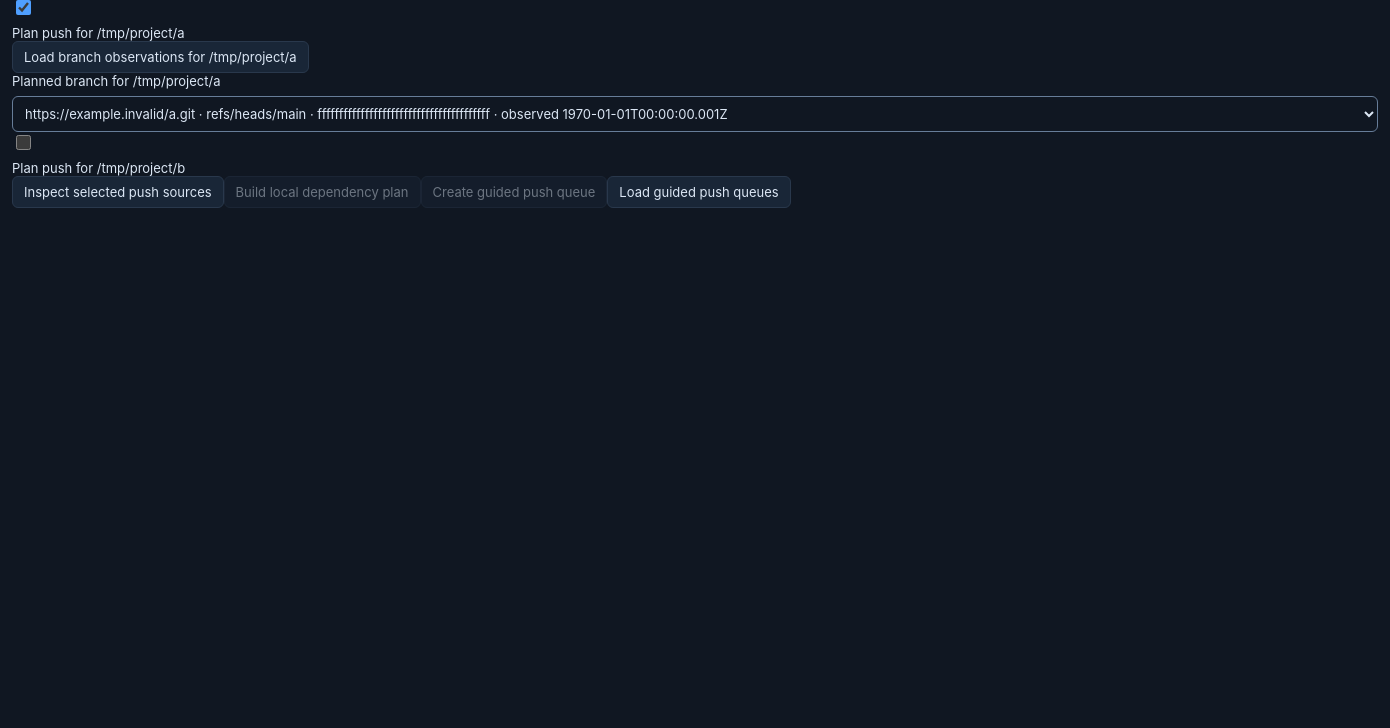
Scenario: submits exact saved child selections and explicit hook policy for independent review
Earlier steps of the test are not shown.
Later steps or results of the test are not shown.
Click the button "Inspect selected push sources" at (118,192), box [12,176,224,208]
(page scrolled)
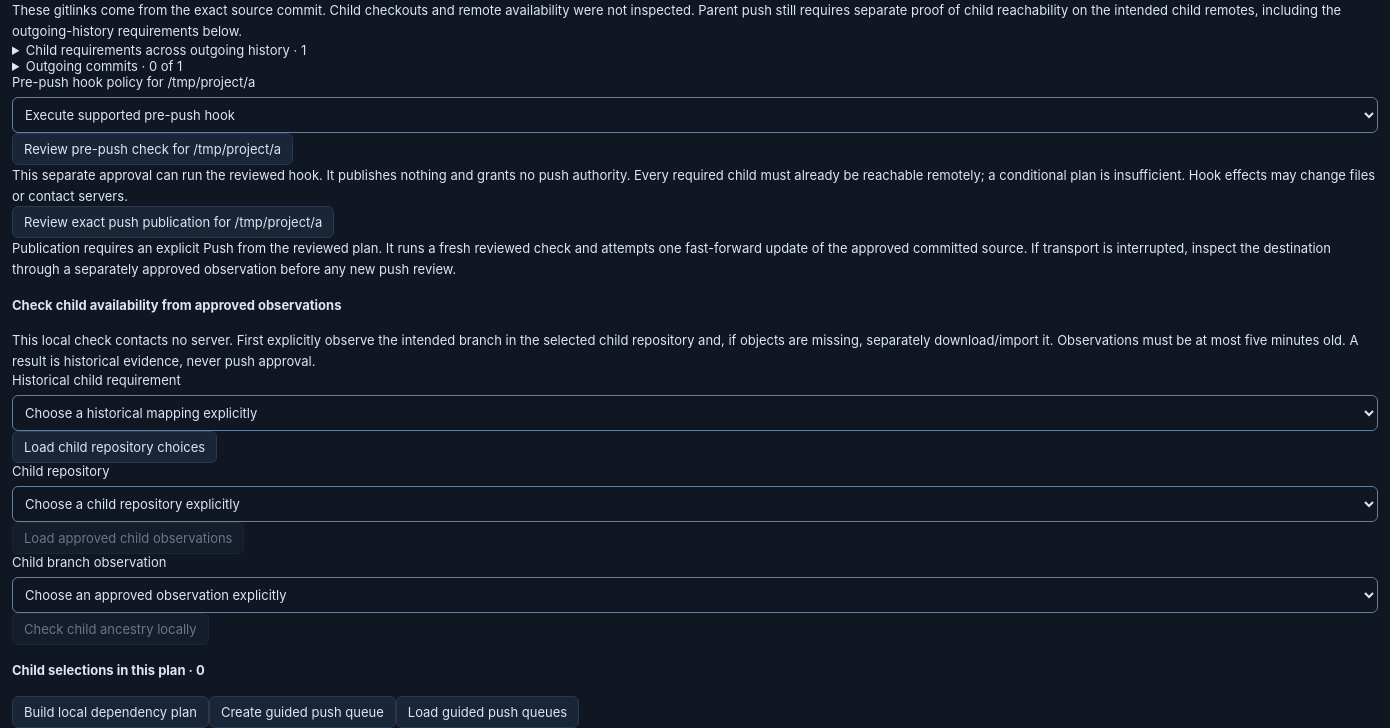
Expected: the heading "Child selections in this plan · 0" is shown, [12,662,205,678]
Select "0" in the dropdown labelled "Historical child requirement" at (695,413), box [12,395,1378,431]
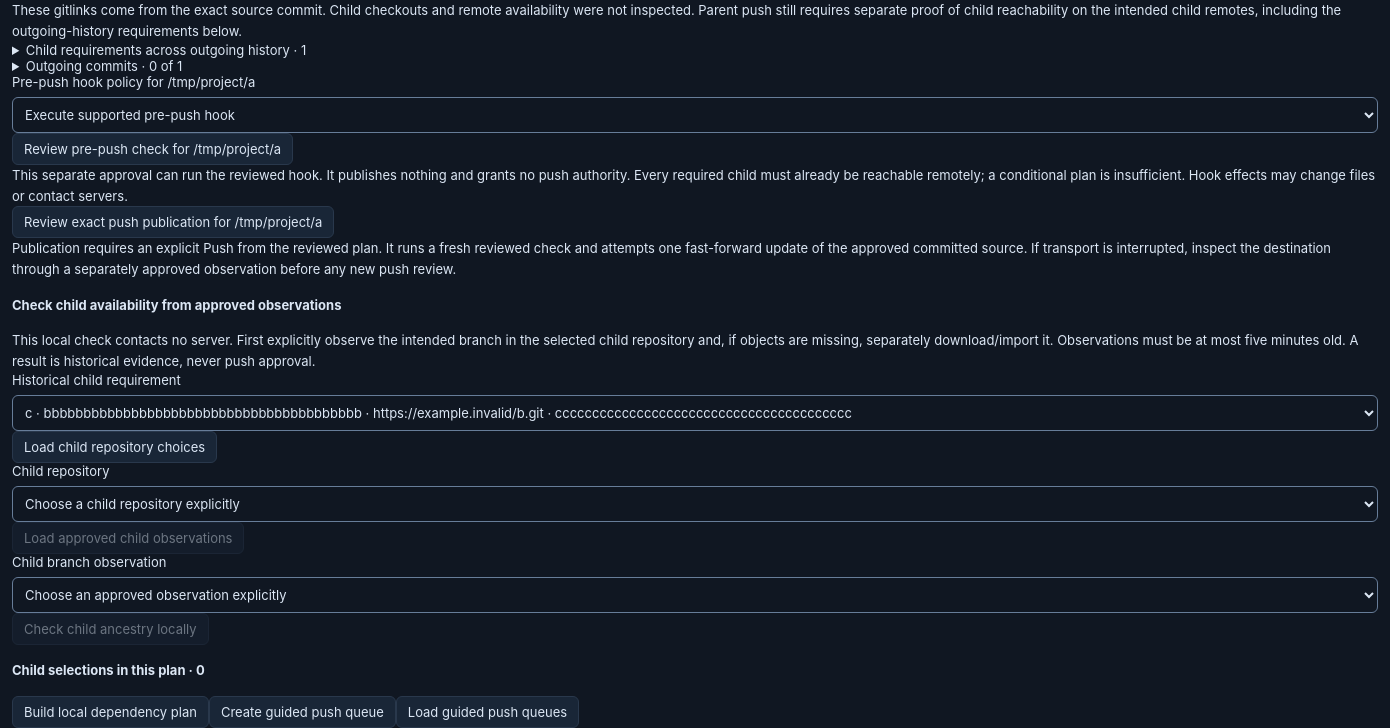
Click the button "Load child repository choices" at (115,447), box [12,431,217,463]
Select "/tmp/project/b" in the dropdown labelled "Child repository" at (695,504), box [12,486,1378,522]
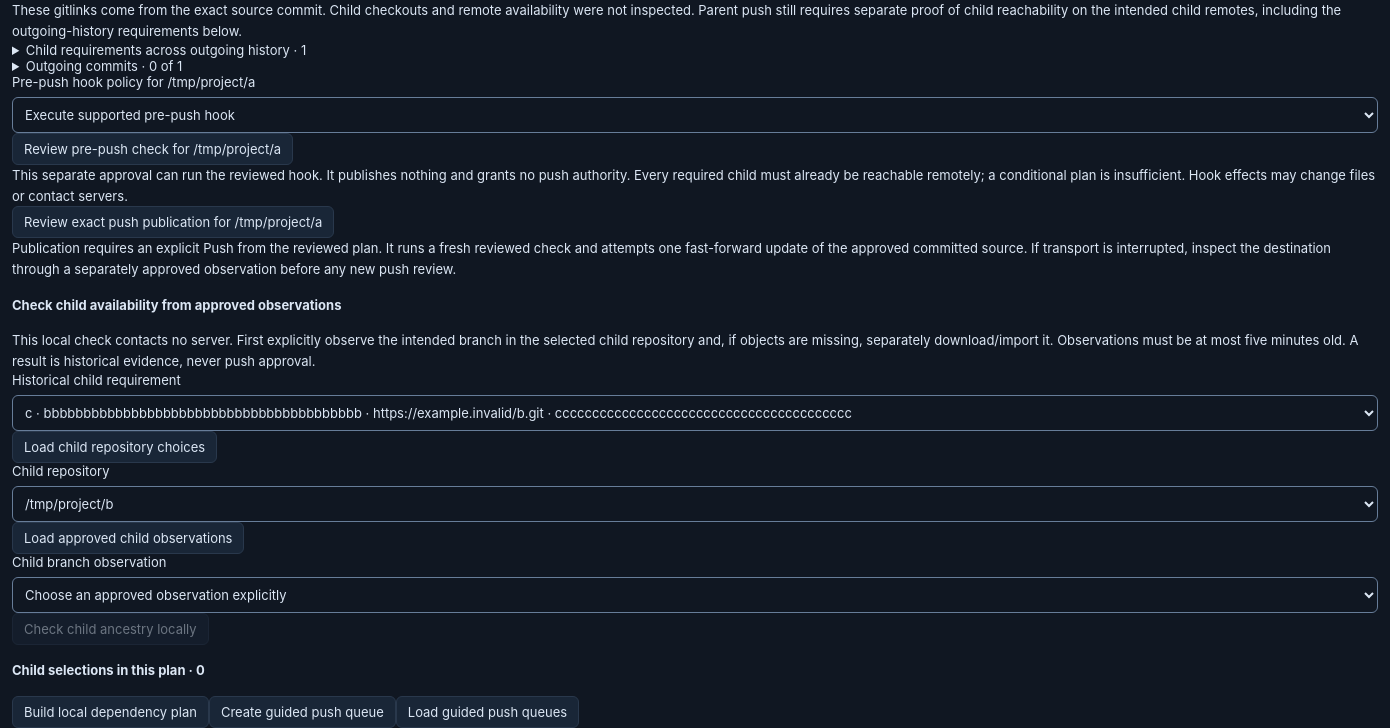
Click the button "Load approved child observations" at (128,538), box [12,522,244,554]
Select "obs-b" in the dropdown labelled "Child branch observation" at (695,595), box [12,577,1378,613]
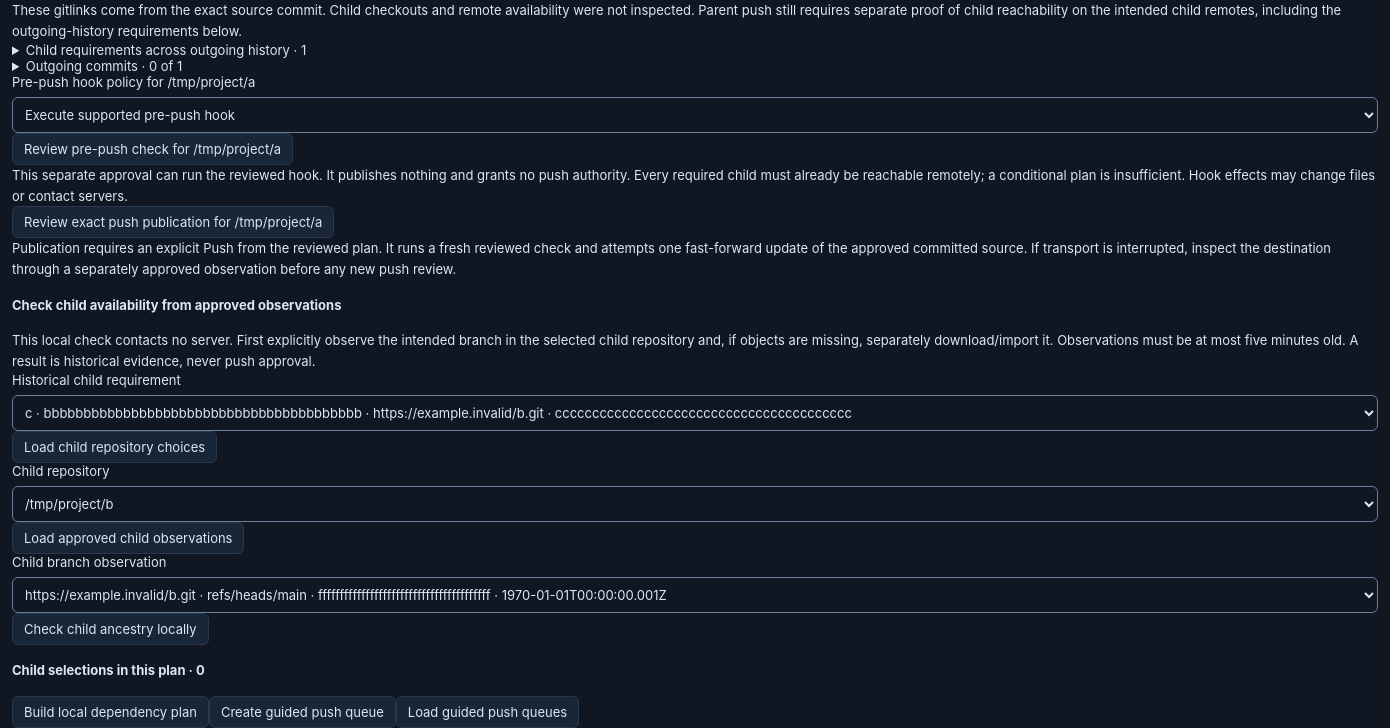
Click the button "Check child ancestry locally" at (110,629), box [12,613,209,645]
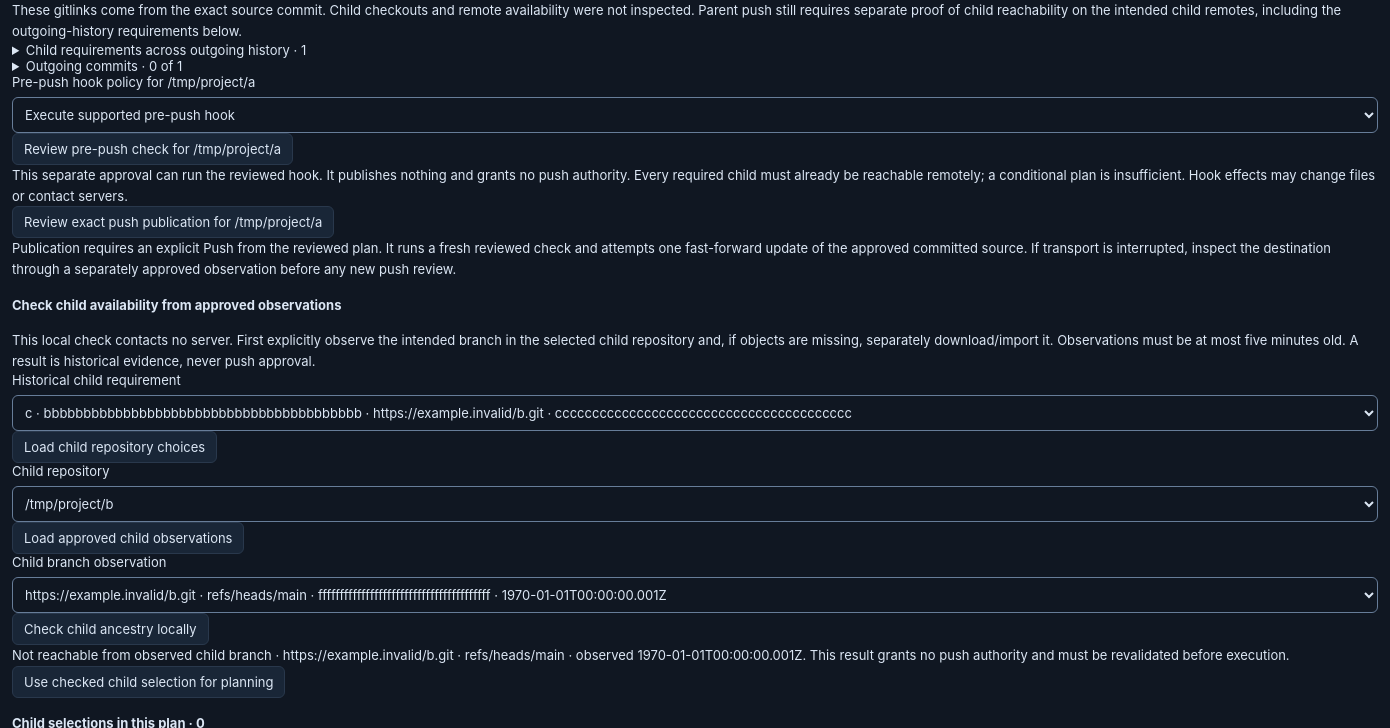
Click the button "Use checked child selection for planning" at (149,682), box [12,666,285,698]
(page scrolled)
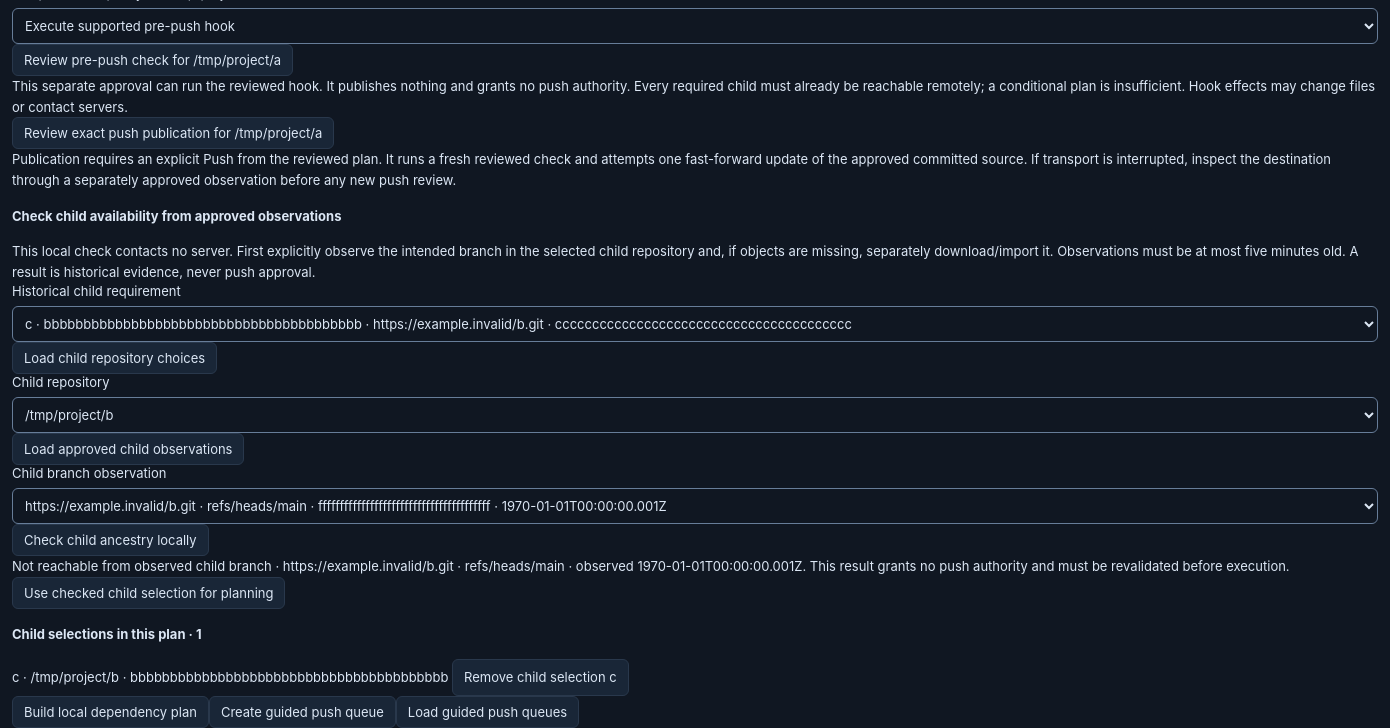
Expected: the heading "Child selections in this plan · 1" is shown, [12,626,202,642]
